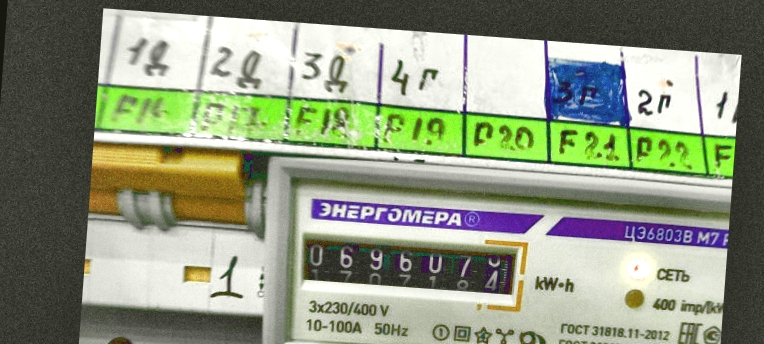0: (306, 241, 325, 266), (426, 247, 443, 273)
4: (482, 266, 499, 291)
6: (336, 243, 355, 268), (396, 246, 415, 271)
7: (455, 251, 472, 278)
9: (366, 245, 384, 270)
screen: (285, 217, 532, 309)
